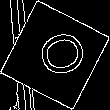O_W: (24, 27, 86, 83)
